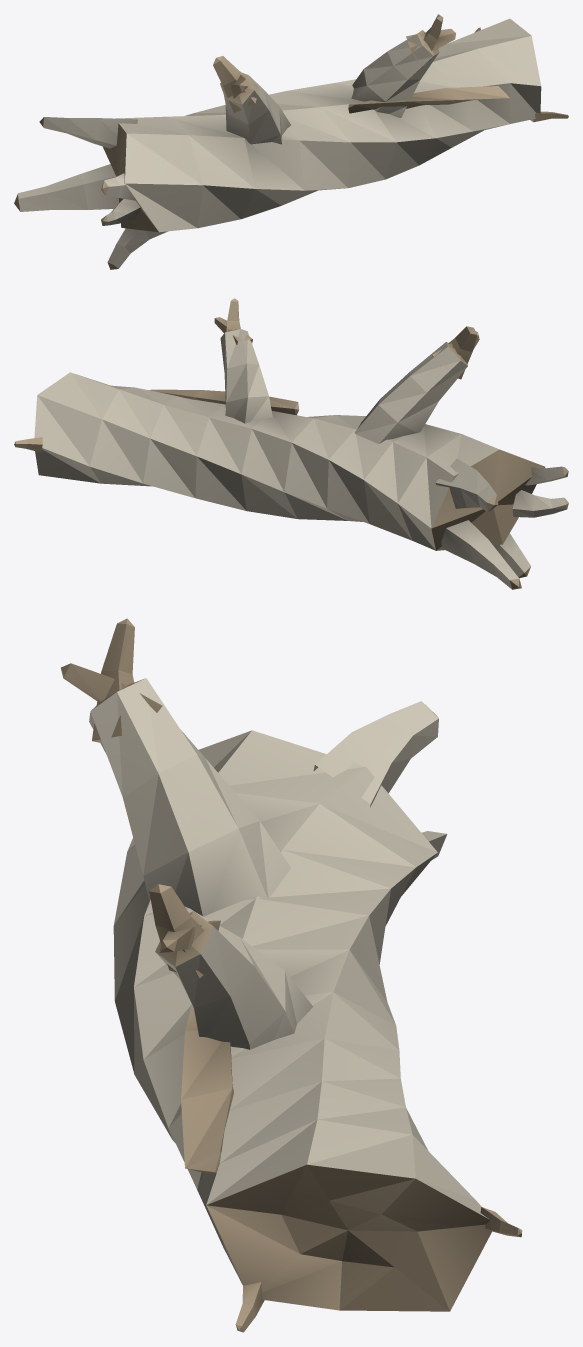
Rendered from driftwood.glb.
3 renders of one model, top to bottom at view 1: azimuth 30°, elevation 25°; view 2: azimuth 150°, elevation 25°; view 3: azimuth 270°, elevation 25°, orthographic. The views are drawn at different scales.
Visible parts, largest first — view 1: driftwood; view 2: driftwood; view 3: driftwood.
Part boxes in pixels (bbox=[...]): driftwood: bbox=[14, 14, 568, 269]; driftwood: bbox=[14, 298, 568, 589]; driftwood: bbox=[61, 618, 522, 1332].
Bounding box in the file's own units: 2.02 × 0.8146 × 0.8058.
